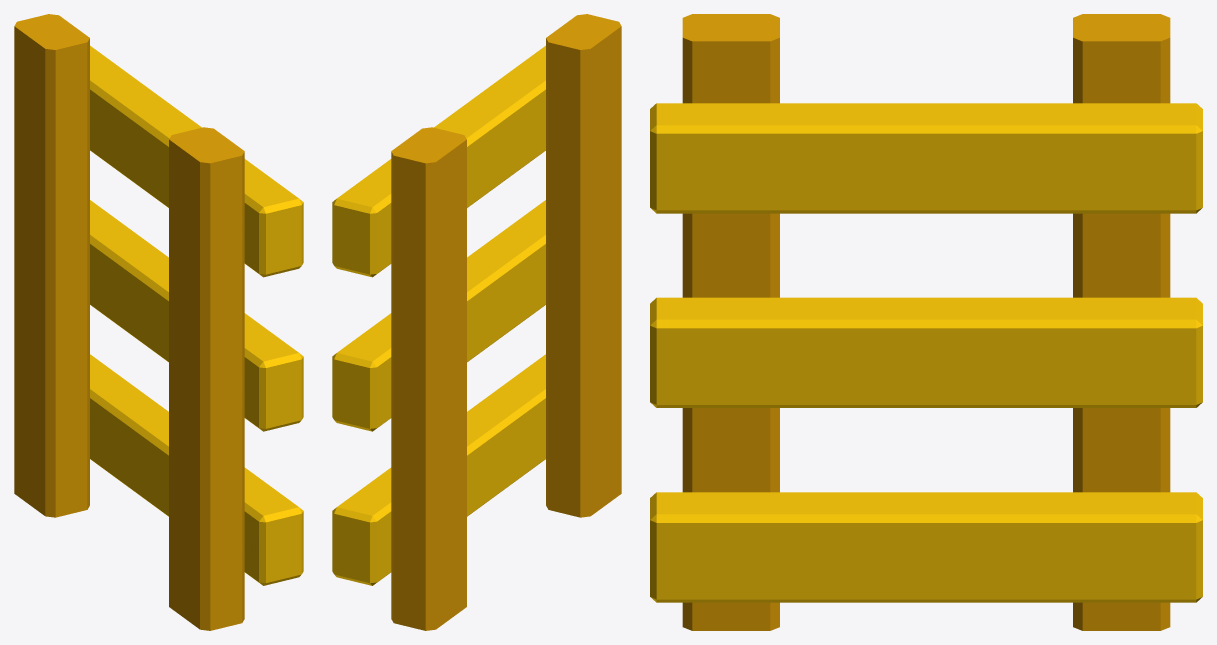
The model's file is HJD_FP_ladder00.fbx.
3 renders of one model, left to right at view 1: azimuth 30°, elevation 25°; view 2: azimuth 150°, elevation 25°; view 3: azimuth 270°, elevation 25°, orthographic. The views are drawn at different scales.
Visible parts, largest first — view 1: transform_unity_scale17; view 2: transform_unity_scale17; view 3: transform_unity_scale17.
Boxes of the visible parts, <box> form: transform_unity_scale17: <box>14,14,303,630</box>; transform_unity_scale17: <box>332,14,621,630</box>; transform_unity_scale17: <box>650,14,1202,630</box>.
Bounding box in the file's own units: 20 × 100 × 85.
